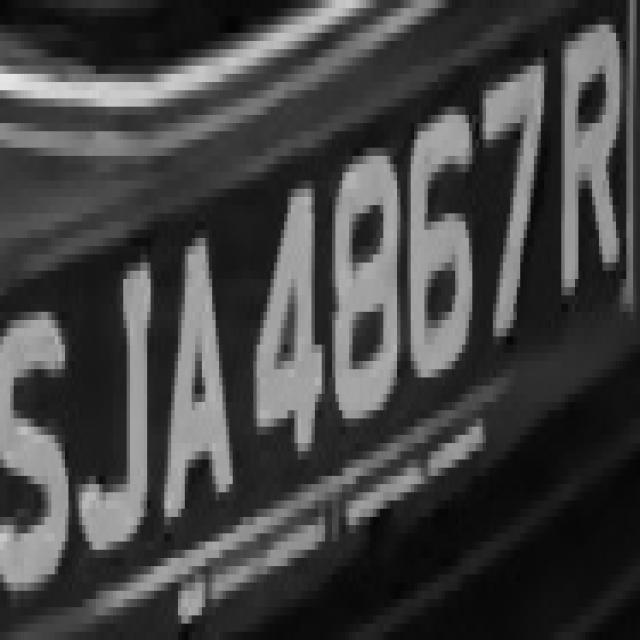4: (246, 156, 328, 484)
6: (394, 90, 479, 394)
7: (472, 49, 548, 328)
8: (325, 123, 411, 451)
A: (144, 205, 236, 533)
J: (68, 222, 158, 582)
R: (554, 0, 636, 320)
S: (3, 247, 72, 616)
